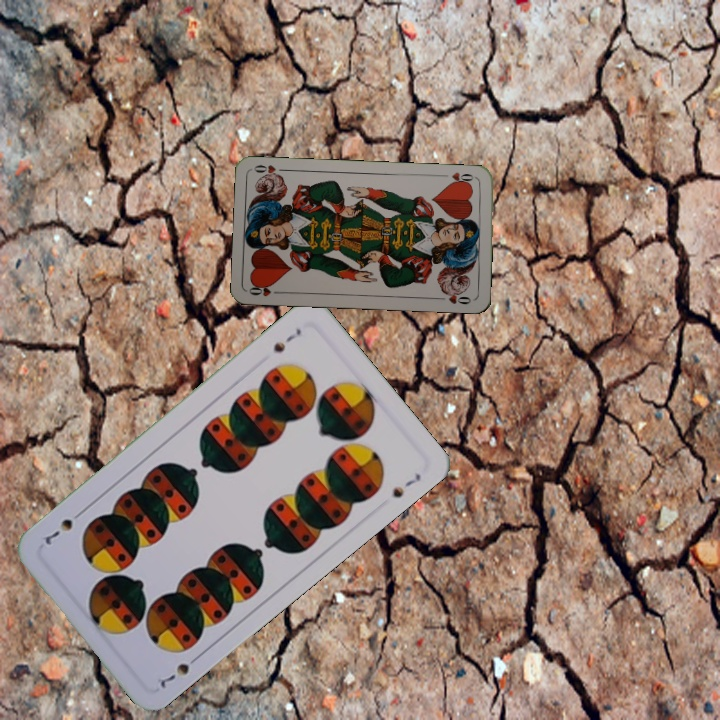HO: (438, 168, 479, 188), (245, 280, 286, 299)
S7: (155, 649, 204, 691), (269, 324, 304, 356)
